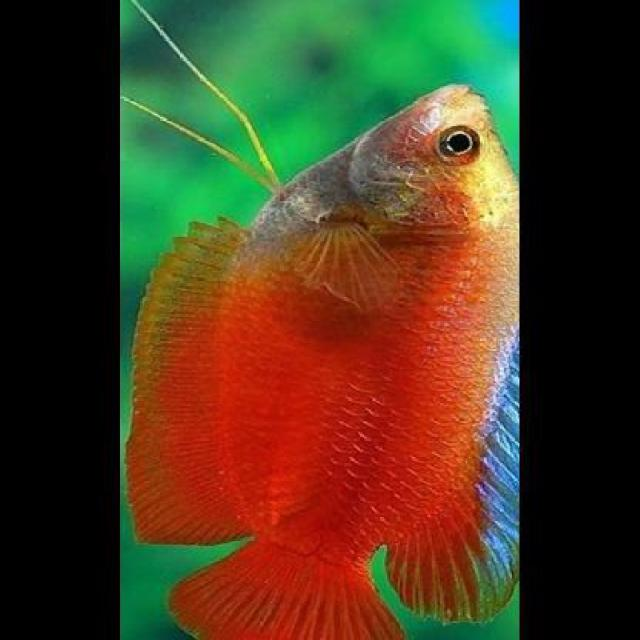Gourami: (123, 79, 520, 638)
